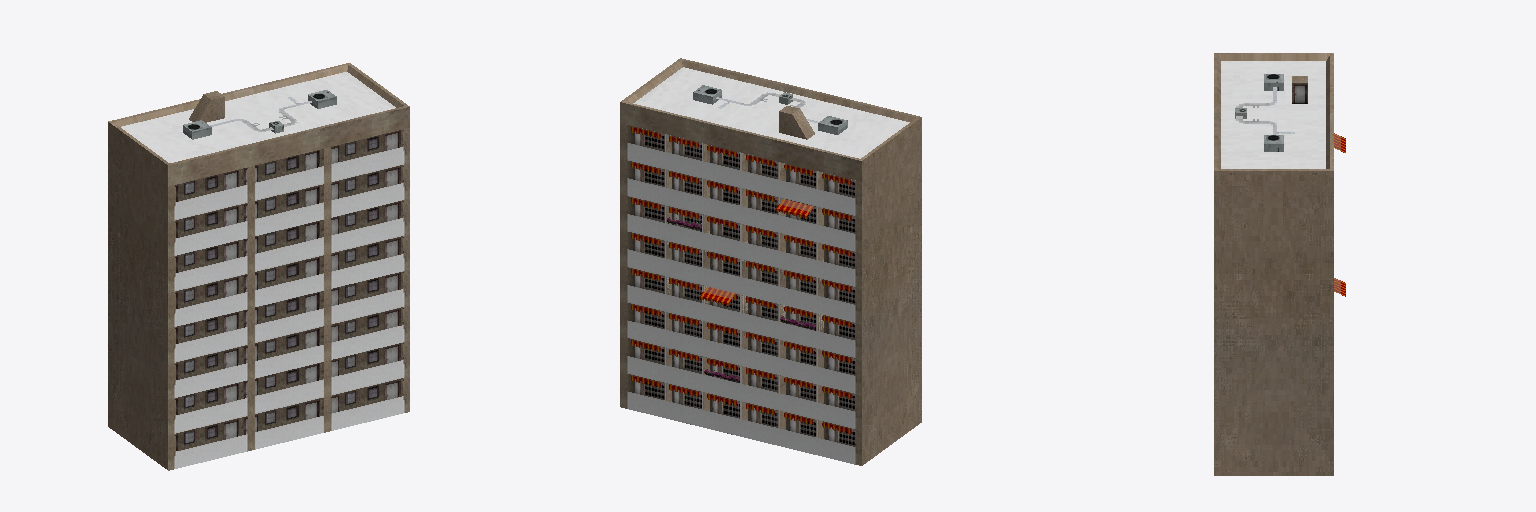
3 renders of one model, left to right at view 1: azimuth 30°, elevation 25°; view 2: azimuth 150°, elevation 25°; view 3: azimuth 270°, elevation 25°, orthographic.
Visible parts, largest first — view 1: apartment_building; view 2: apartment_building; view 3: apartment_building.
Part boxes in pixels (bbox=[...]): apartment_building: bbox=[108, 63, 409, 470]; apartment_building: bbox=[620, 58, 921, 465]; apartment_building: bbox=[1214, 53, 1345, 475].
Size of the model in its own units: 0.5493 by 0.6993 by 0.2615.
1 materials, 1 textured.